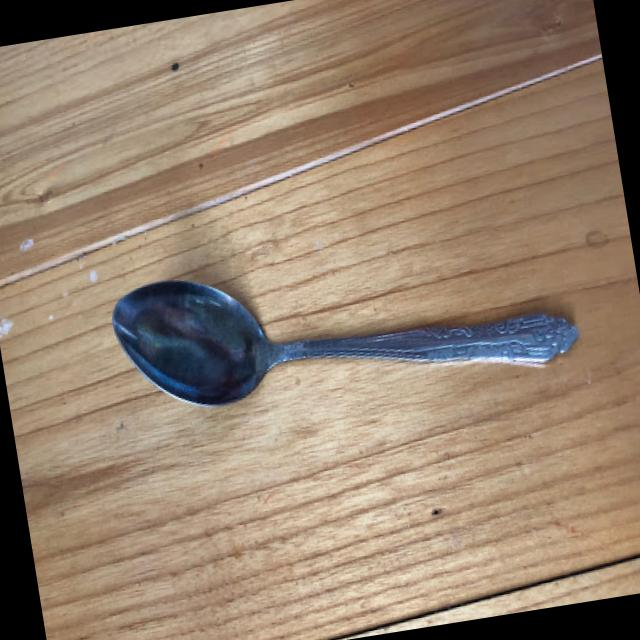spoon: (82, 191, 612, 482)
